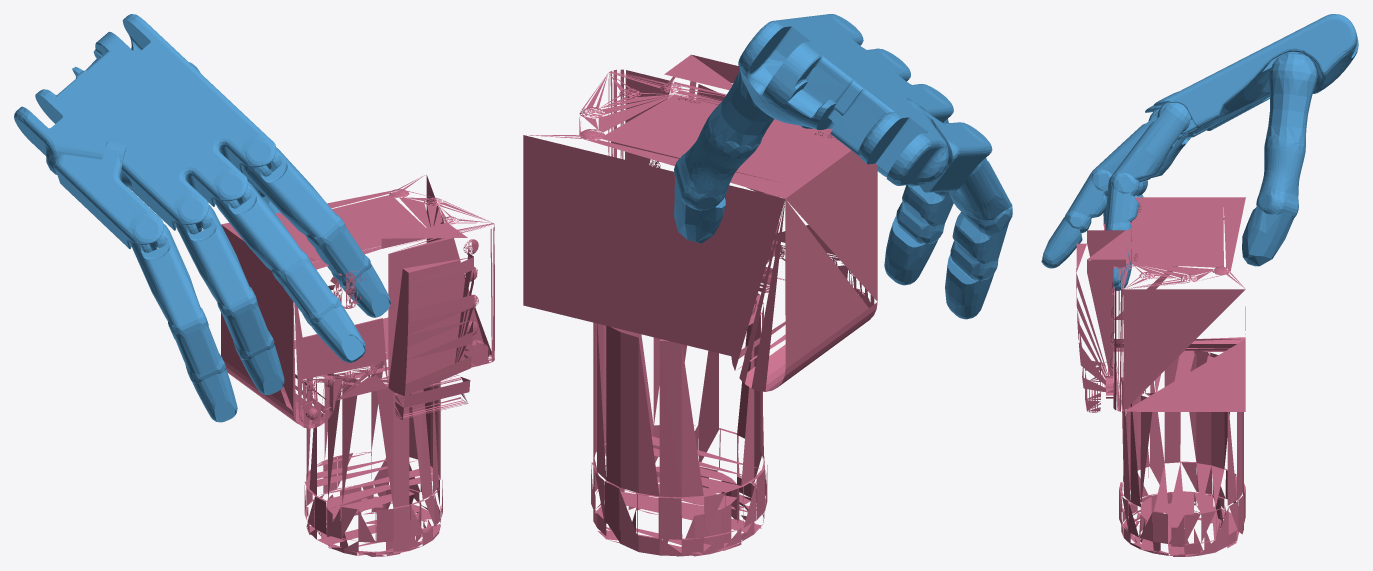
The picture shows the model from 3 angles, left to right: view 1: azimuth 30°, elevation 25°; view 2: azimuth 150°, elevation 25°; view 3: azimuth 270°, elevation 25°; orthographic projection. The views are drawn at different scales.
Parts seen in each view (by area): view 1: 3; view 2: 3; view 3: 3.
Part boxes in pixels (left/top/right/bottom): 3: left=14, top=14, right=494, bottom=556; 3: left=523, top=14, right=1012, bottom=556; 3: left=1041, top=14, right=1358, bottom=556.
Size of the model in its own units: 0.2022 by 0.2641 by 0.1676.
